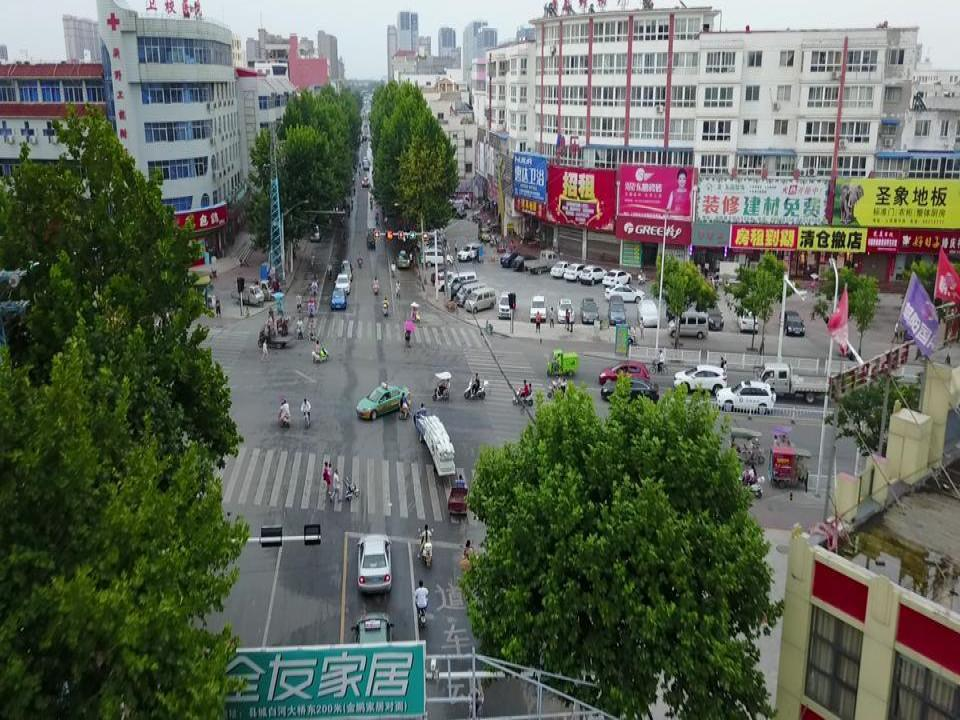car: (348, 609, 396, 679), (712, 377, 776, 416), (357, 531, 394, 593), (356, 382, 411, 422), (673, 365, 729, 396), (597, 380, 659, 407), (598, 360, 651, 387), (699, 293, 724, 332), (605, 282, 646, 302), (780, 308, 806, 339), (736, 305, 759, 335), (638, 298, 661, 326), (607, 293, 626, 324), (578, 266, 607, 286), (580, 296, 599, 325), (555, 296, 574, 325), (436, 272, 465, 291), (511, 253, 536, 274), (601, 270, 633, 286), (498, 290, 516, 318), (563, 264, 588, 283), (549, 260, 574, 279), (499, 252, 524, 271), (530, 293, 547, 320), (429, 268, 455, 285)
truck: (755, 359, 835, 404), (524, 251, 560, 273)
van: (667, 309, 709, 339), (455, 280, 487, 307), (464, 287, 496, 313), (447, 273, 479, 299)
